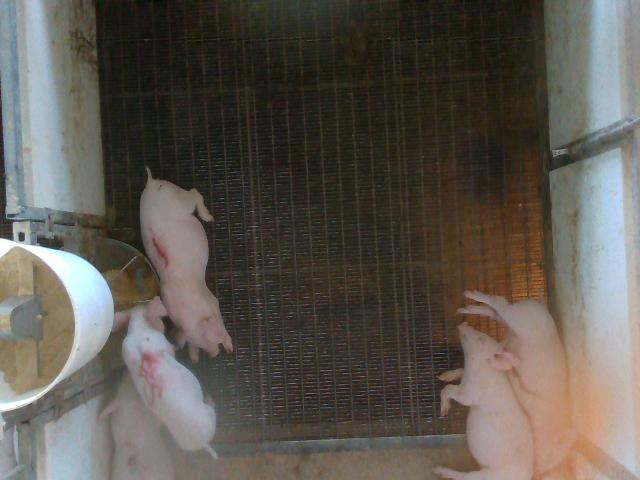pig-1: (140, 168, 232, 359)
pig-3: (100, 370, 174, 478)
pig-5: (112, 298, 216, 457)
